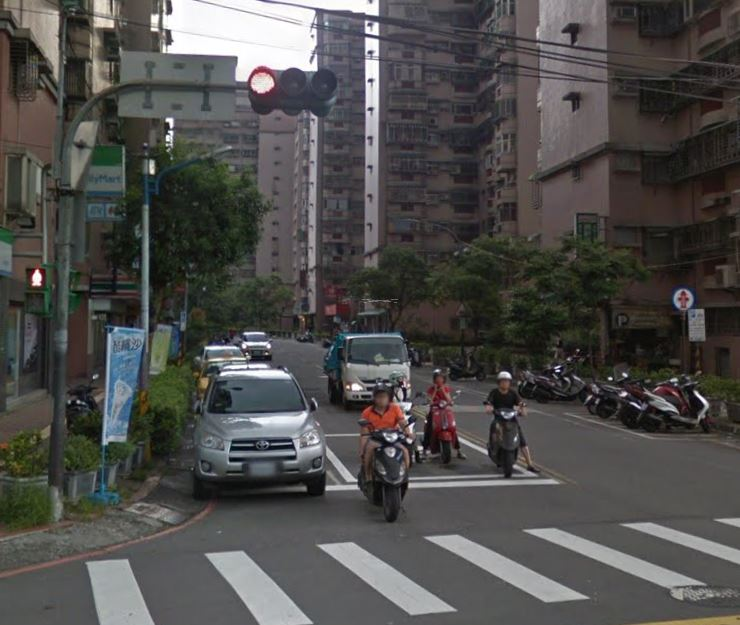Traffic_light_red: (246, 66, 338, 100)
